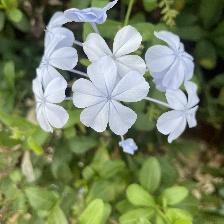chitrak: (75, 58, 148, 140), (84, 25, 148, 82), (146, 29, 198, 87), (29, 76, 73, 133), (159, 83, 201, 141), (38, 33, 76, 76), (70, 1, 122, 28), (46, 10, 78, 53)
